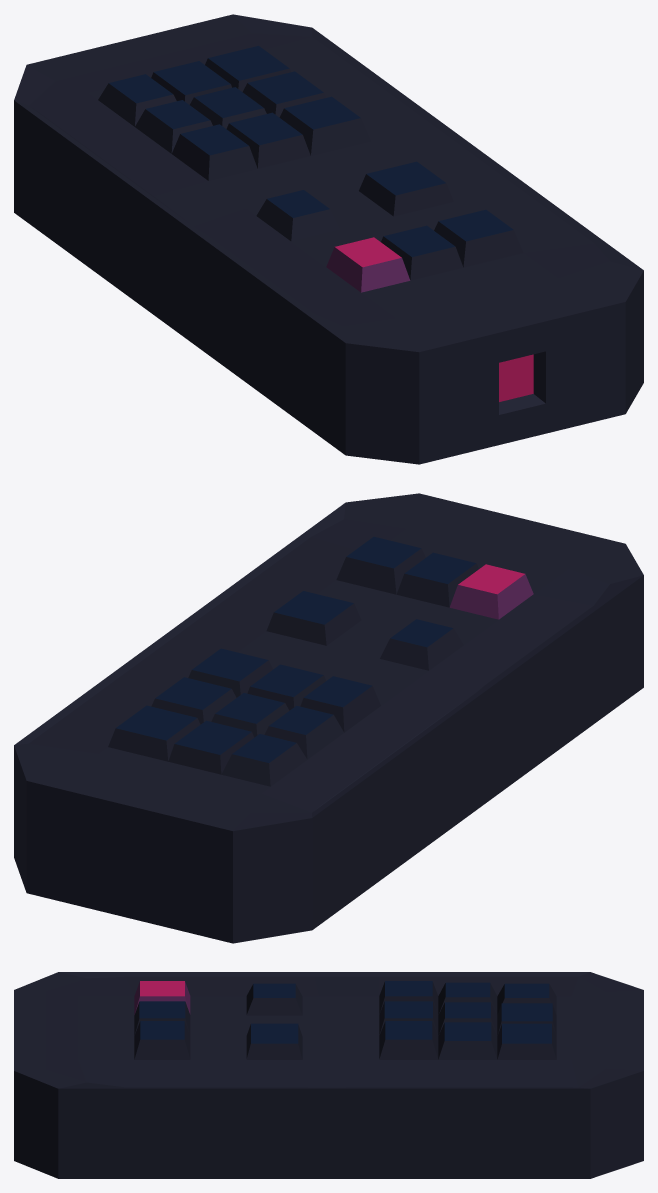
The model's file is Theftable_Remote_Black.fbx.
3 renders of one model, top to bottom at view 1: azimuth 30°, elevation 25°; view 2: azimuth 150°, elevation 25°; view 3: azimuth 270°, elevation 25°, orthographic. The views are drawn at different scales.
Parts seen in each view (by area): view 1: Cube.247; view 2: Cube.247; view 3: Cube.247.
Boxes of the visible parts, x1,y1,x2,y2 form: Cube.247: [14, 14, 643, 464]; Cube.247: [14, 493, 643, 943]; Cube.247: [14, 972, 643, 1178].
Bounding box in the file's own units: 13.24 × 5.72 × 30.2.
